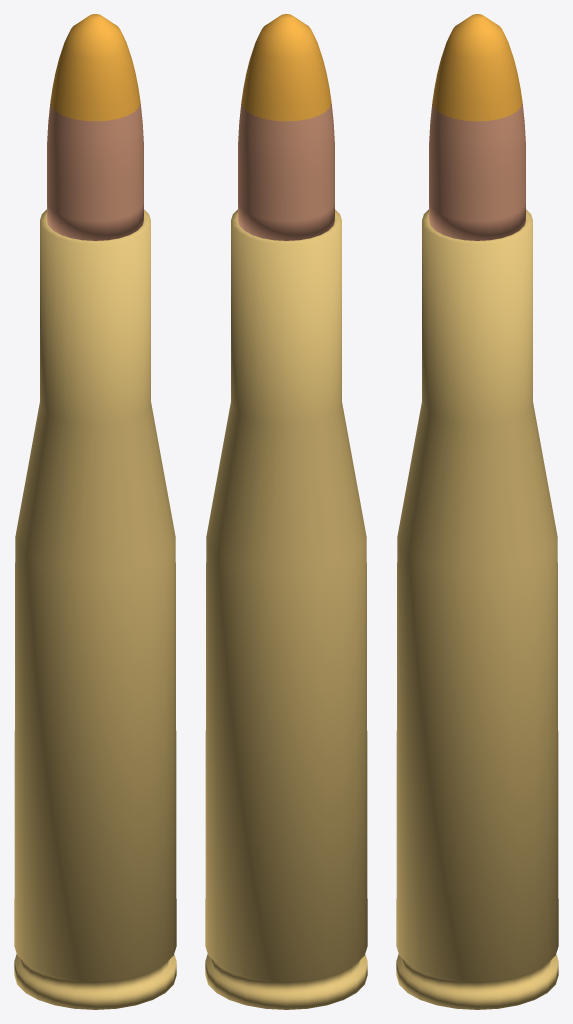
3 views of the same model, side by side, from view 1: azimuth 30°, elevation 25°; view 2: azimuth 150°, elevation 25°; view 3: azimuth 270°, elevation 25° (orthographic).
Visible parts, largest first — view 1: vaina, bala_cuerpo, punta; view 2: vaina, bala_cuerpo, punta; view 3: vaina, bala_cuerpo, punta.
Boxes of the visible parts, left/top/right/bottom form: vaina: left=14, top=209, right=176, bottom=1009; bala_cuerpo: left=47, top=103, right=143, bottom=240; punta: left=50, top=14, right=140, bottom=121; vaina: left=205, top=209, right=367, bottom=1009; bala_cuerpo: left=238, top=103, right=334, bottom=240; punta: left=241, top=14, right=331, bottom=121; vaina: left=396, top=209, right=558, bottom=1009; bala_cuerpo: left=429, top=103, right=525, bottom=240; punta: left=432, top=14, right=522, bottom=121.
Bounding box in the file's own units: 0.013 × 0.0848 × 0.013.
